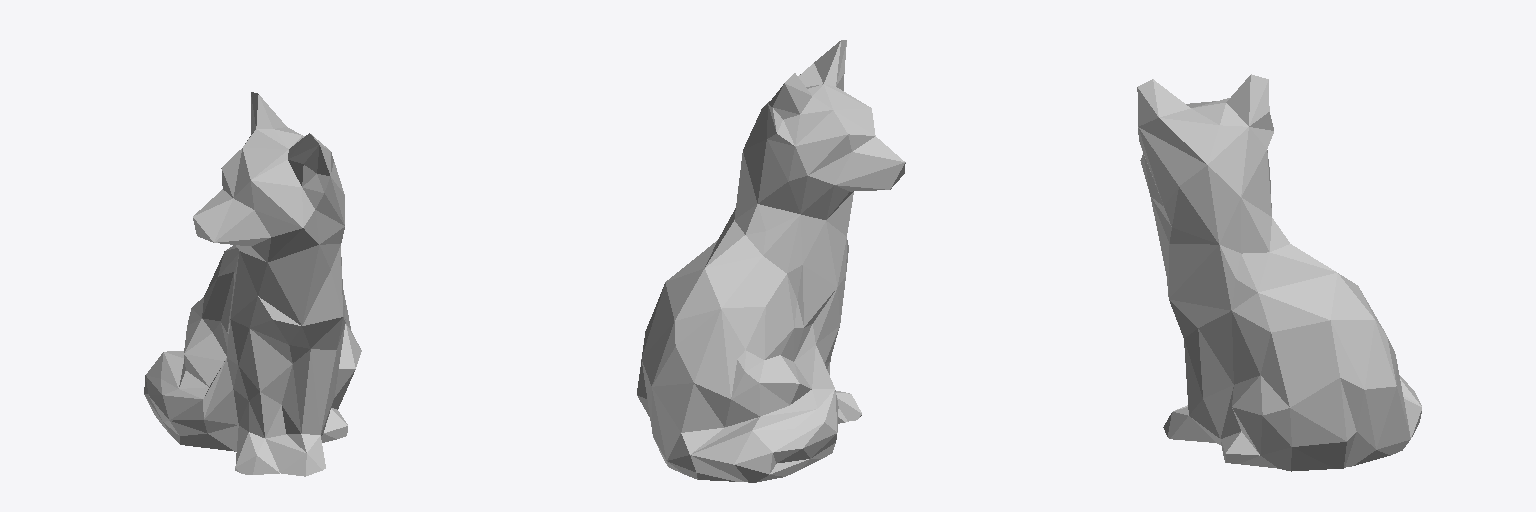
The model's file is fox.obj.
The picture shows the model from 3 angles: view 1: azimuth 30°, elevation 25°; view 2: azimuth 150°, elevation 25°; view 3: azimuth 270°, elevation 25°; orthographic projection.
Parts seen in each view (by area): view 1: Fox; view 2: Fox; view 3: Fox.
Part boxes in pixels (bbox=[...]): Fox: bbox=[144, 92, 361, 476]; Fox: bbox=[637, 40, 905, 482]; Fox: bbox=[1137, 74, 1421, 471].
Size of the model in its own units: 6.37 by 10.66 by 7.84.